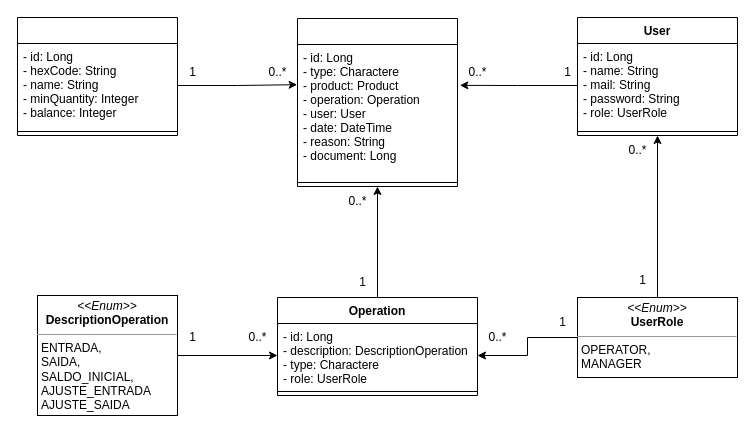
The diagram is 755 pixels wide and 433 high, and some of its shapes have lost their labels. Each missing label, with the box of its shape:
Movement: (296, 18, 458, 186)
Product: (16, 16, 178, 136)
